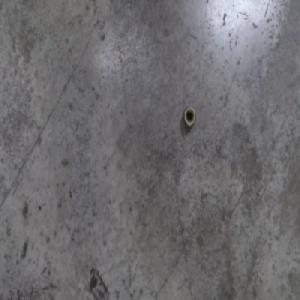Nut: (183, 105, 196, 128)
